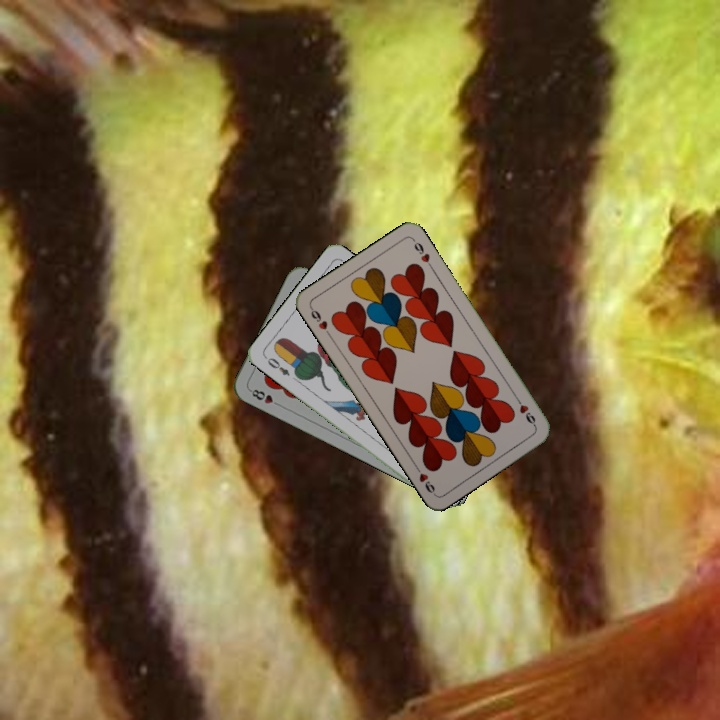EO: (263, 353, 292, 378)
H8: (246, 385, 283, 409)
H9: (306, 303, 333, 339), (512, 393, 539, 429)
